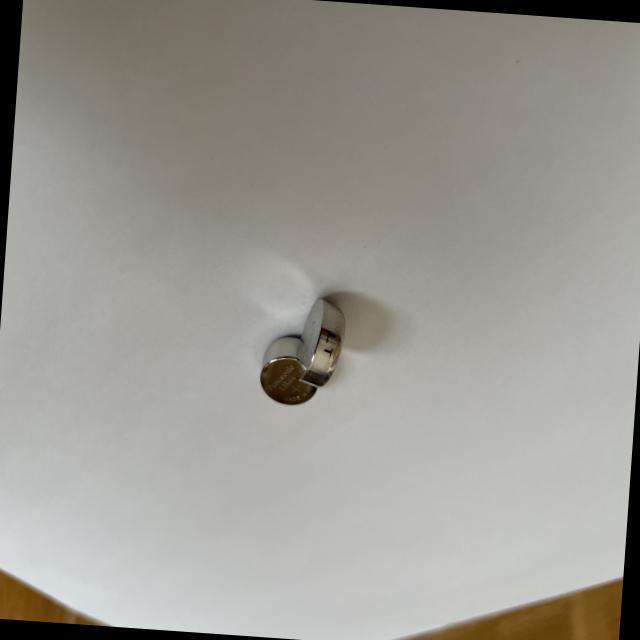COIN: (294, 294, 346, 391), (257, 330, 320, 406)
